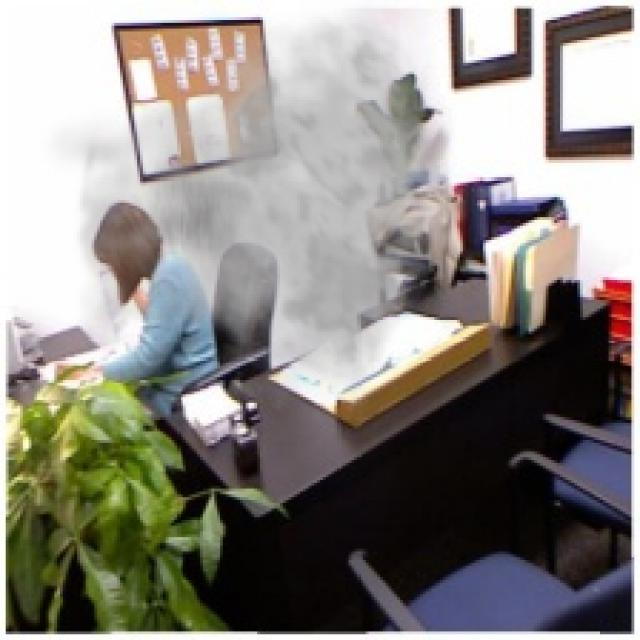smoke: (40, 0, 454, 420)
